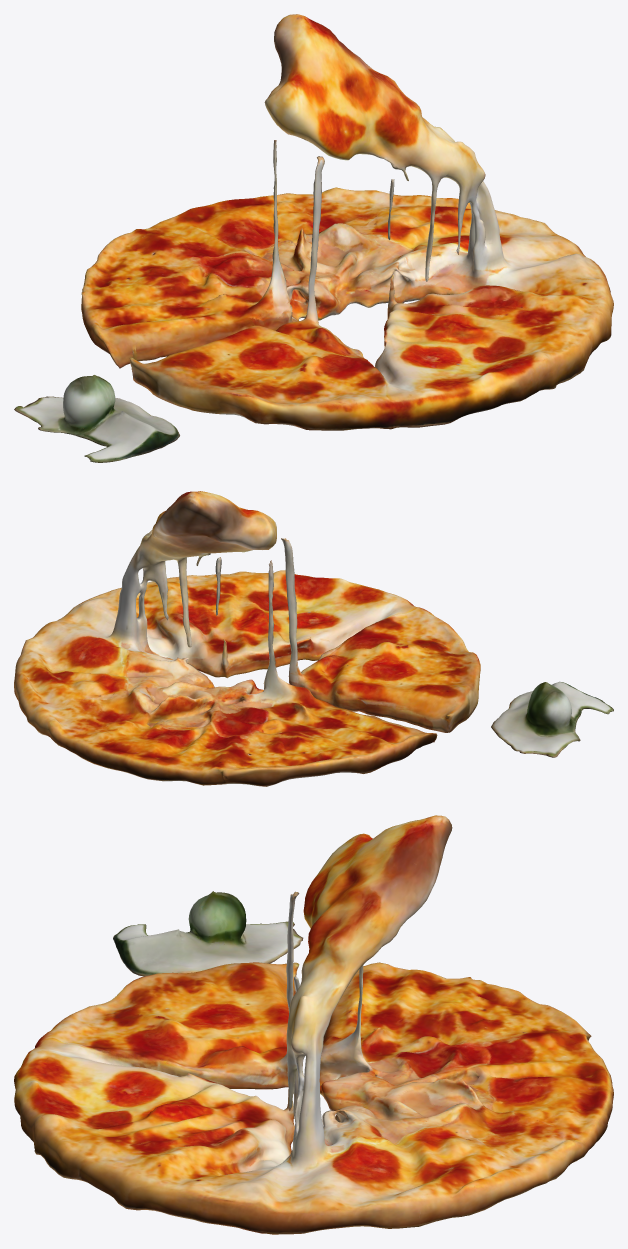
File: Pizzaa.glb
The picture shows the model from 3 angles, top to bottom: view 1: azimuth 30°, elevation 25°; view 2: azimuth 150°, elevation 25°; view 3: azimuth 270°, elevation 25°; orthographic projection. The views are drawn at different scales.
Size of the model in its own units: 1.99 by 0.8726 by 1.6.
1 material, 1 textured.
